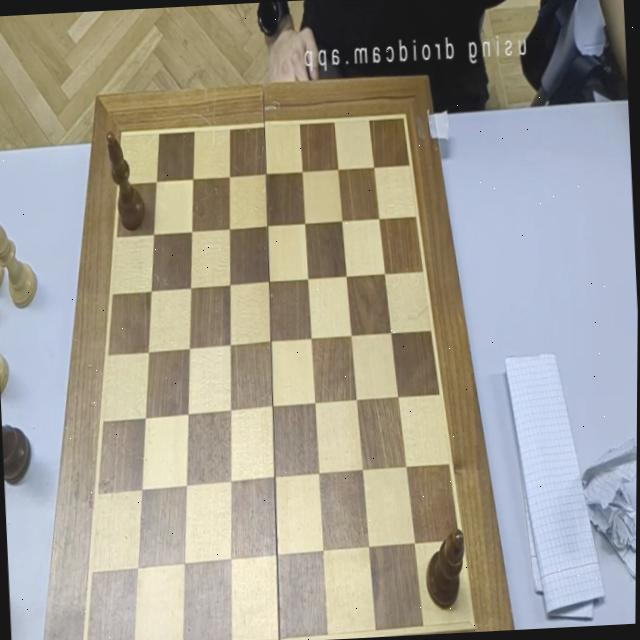black_bishop: (105, 129, 147, 231), (425, 528, 468, 610)
